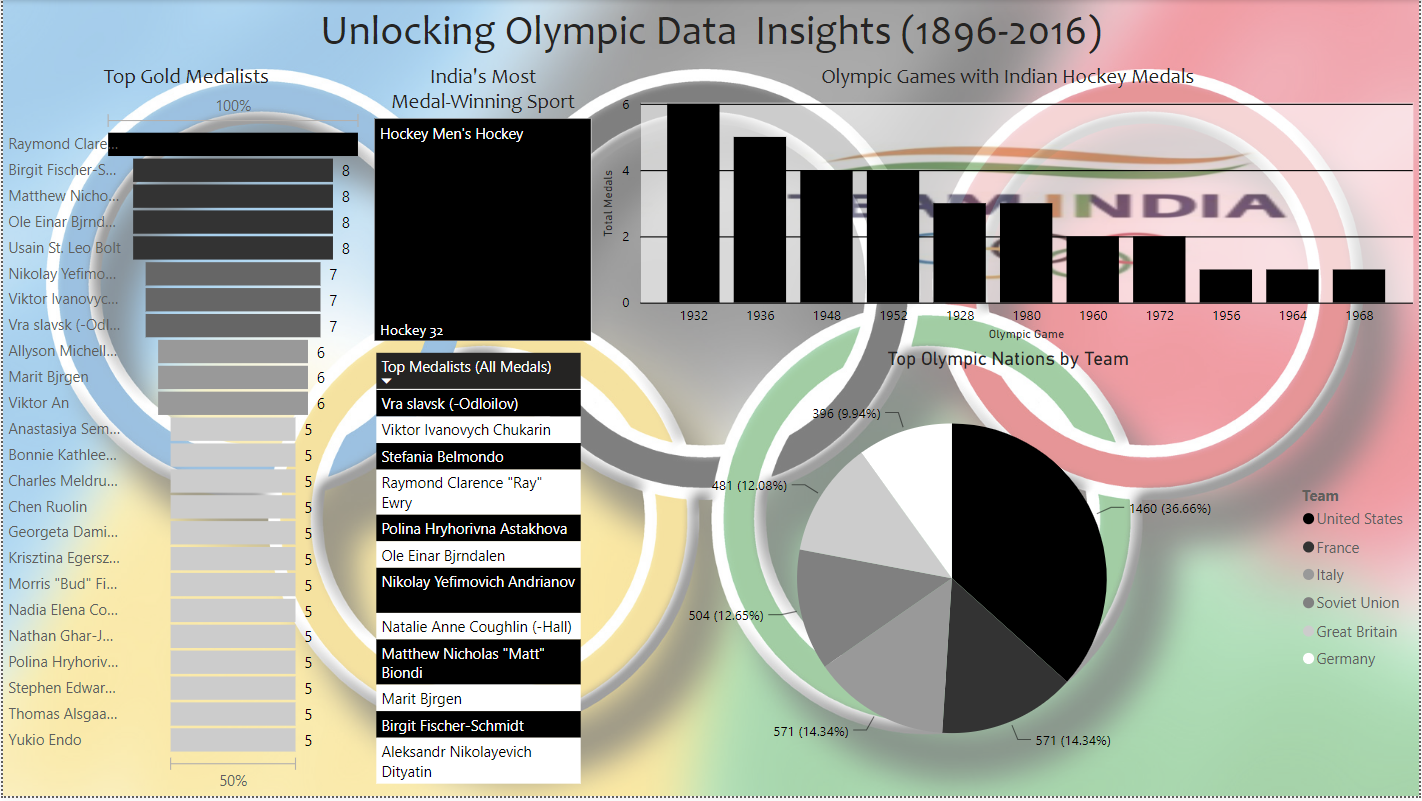

The page's visual inventory and layout, read from the dashboard file:
{"tool":"powerbi","page":{"name":"Dashboard 2","canvas":[1280,720],"ordinal":1},"visuals":[{"type":"textbox","box":[0,0,1280.6,57.6],"z":0},{"type":"funnel","title":"Top Gold Medalists","fields":{"Category":["9.Name"],"Y":["Sum(9.TotalGoldMedals)"]},"box":[0,58.1,331.2,662.3],"z":1000},{"type":"tableEx","fields":{"Values":["10.Column1"]},"box":[331.2,313.7,205.7,406.7],"z":1001},{"type":"pieChart","fields":{"Category":["11.Team"],"Y":["Sum(11.TotalMedals)"]},"box":[536.8,313.7,743.6,398.5],"z":1002},{"type":"treemap","title":"India''s Most Medal-Winning Sport","fields":{"Group":["12.Event"],"Details":["12.Sport"],"Values":["Sum(12.TotalMedals)"]},"box":[331.2,58.1,205.7,255.6],"z":1003},{"type":"columnChart","title":"Olympic Games with Indian Hockey Medals","fields":{"Category":["13.OlympicGame"],"Y":["Sum(13.TotalMedals)"]},"box":[537,58,743,256],"z":1004}]}

Visuals, with their boxes in screenshot pixels (x1, y1, x2, y2), scaled from the page's 1280x720 canvas onto the 1422x801 screenshot:
textbox: 0:0:1421:64
"Top Gold Medalists" funnel: 0:65:368:800
tableEx - 10.Column1: 368:349:596:800
pieChart - 11.Team x Sum(11.TotalMedals): 596:349:1421:792
"India''s Most Medal-Winning Sport" treemap: 368:65:596:349
"Olympic Games with Indian Hockey Medals" columnChart: 597:65:1421:349
